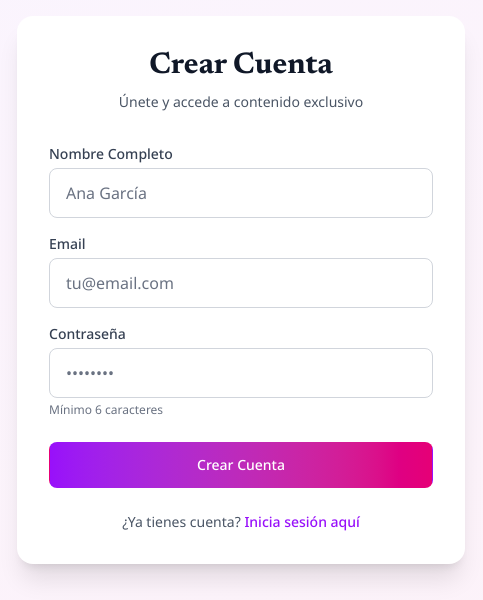
RegistroPage › shows success message on registration success
Step 1. Type "Test User" into the field with placeholder "Ana García" → (241,193), box [49,168,433,218]
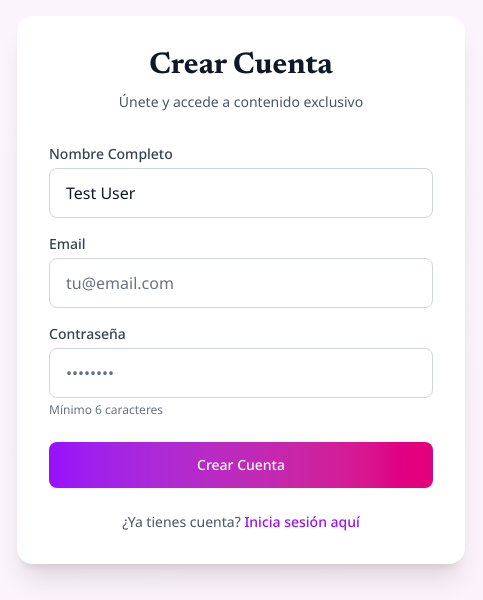
Step 2. Type "test@example.com" into the field with placeholder "tu@email.com" → (241,283), box [49,258,433,308]
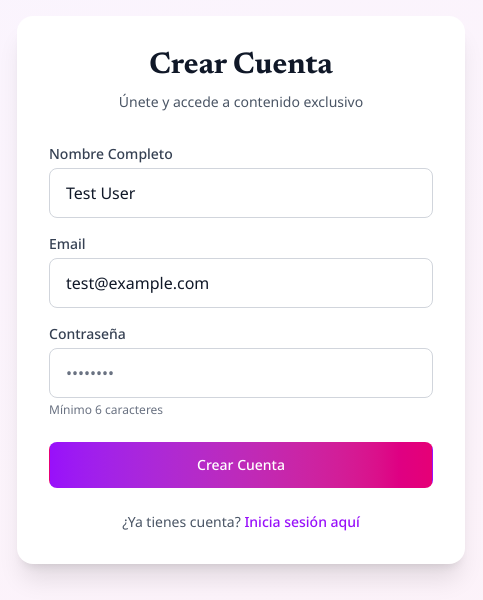
Step 3. Type "password123" into the password field with placeholder "••••••••" → (241,373), box [49,348,433,398]
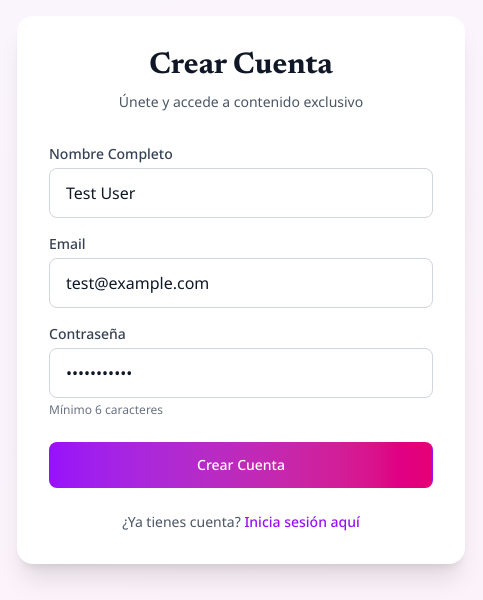
Step 4. Click the button "Crear Cuenta" → (241,465), box [49,442,433,488]
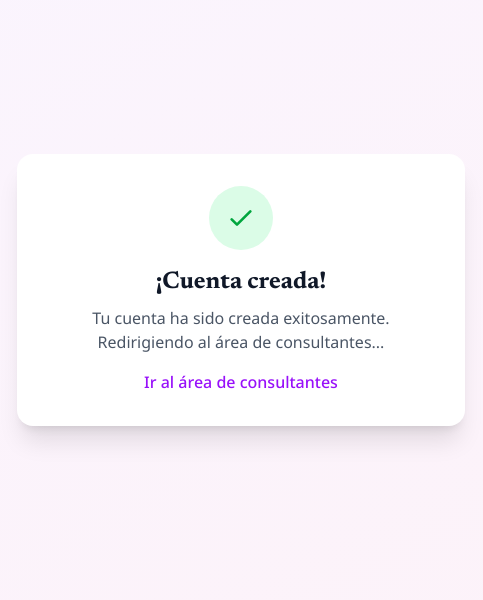
expect the heading "¡Cuenta creada!" is shown: met, box [156,270,326,294]
